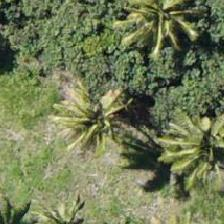coconut_tree: (53, 74, 143, 164), (150, 98, 223, 188), (112, 0, 202, 54), (3, 173, 93, 223)
